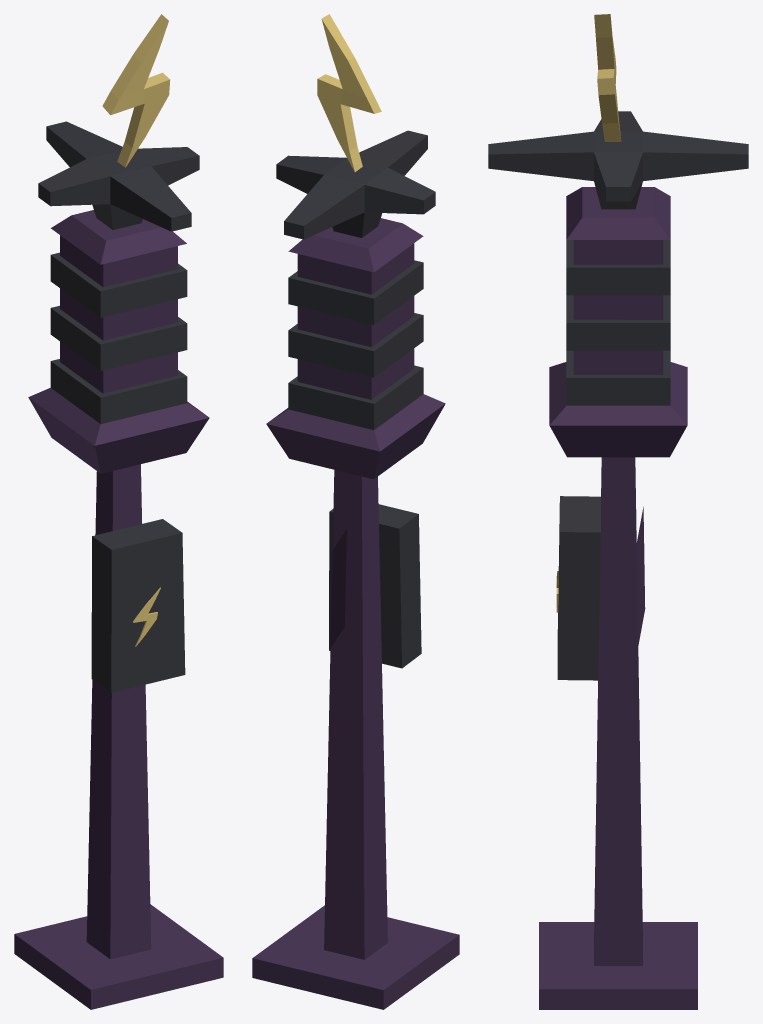
File: charger_01.fbx
3 renders of one model, left to right at view 1: azimuth 30°, elevation 25°; view 2: azimuth 150°, elevation 25°; view 3: azimuth 270°, elevation 25°, orthographic. The views are drawn at different scales.
Visible parts, largest first — view 1: tower, bigbolt, bolt; view 2: tower, bigbolt; view 3: tower, bigbolt.
Part boxes in pixels (x1=…): tower: x1=14, y1=121, x2=223, y2=1009; bigbolt: x1=102, y1=14, x2=170, y2=167; bolt: x1=133, y1=587, x2=160, y2=646; tower: x1=252, y1=130, x2=459, y2=1009; bigbolt: x1=317, y1=14, x2=381, y2=171; tower: x1=488, y1=111, x2=748, y2=1009; bigbolt: x1=594, y1=14, x2=621, y2=141.
Bounding box in the file's own units: 262 × 1589 × 381.
2 materials, 2 textured.
